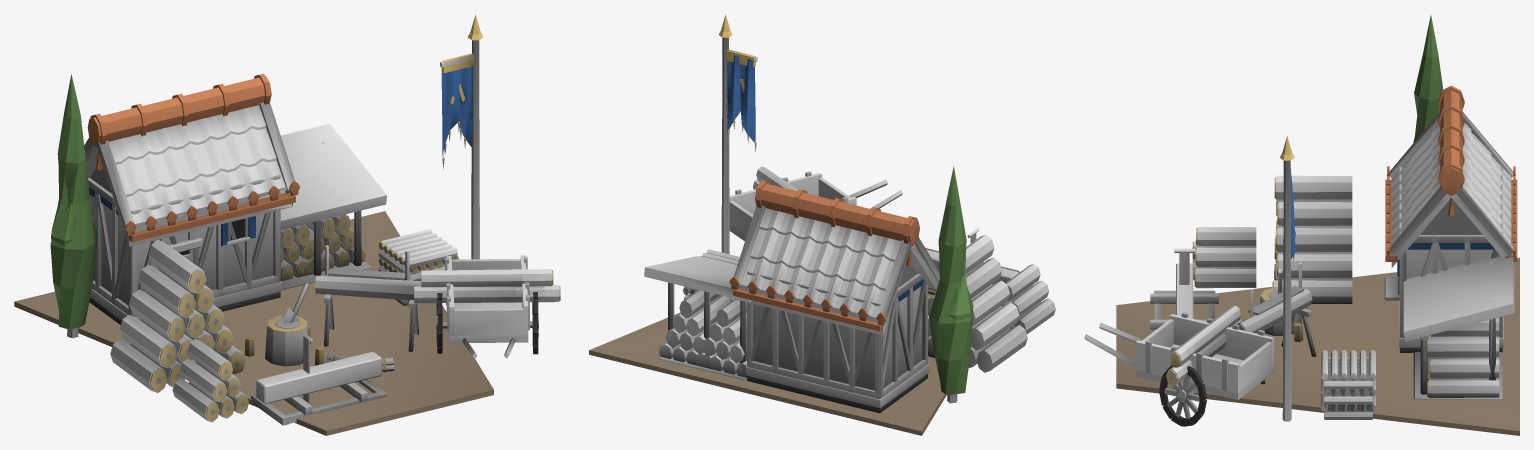
Rendered from woodcutter-l2.glb.
3 views of the same model, side by side, from view 1: azimuth 30°, elevation 25°; view 2: azimuth 150°, elevation 25°; view 3: azimuth 270°, elevation 25° (orthographic). The views are drawn at different scales.
Parts seen in each view (by area): view 1: woodcutter-l2; view 2: woodcutter-l2; view 3: woodcutter-l2.
Part boxes in pixels (box(x1,y1,x2,y2)): woodcutter-l2: box(14, 14, 560, 435); woodcutter-l2: box(589, 14, 1055, 435); woodcutter-l2: box(1084, 15, 1519, 435).
Size of the model in its own units: 1.27 by 0.972 by 1.31.
